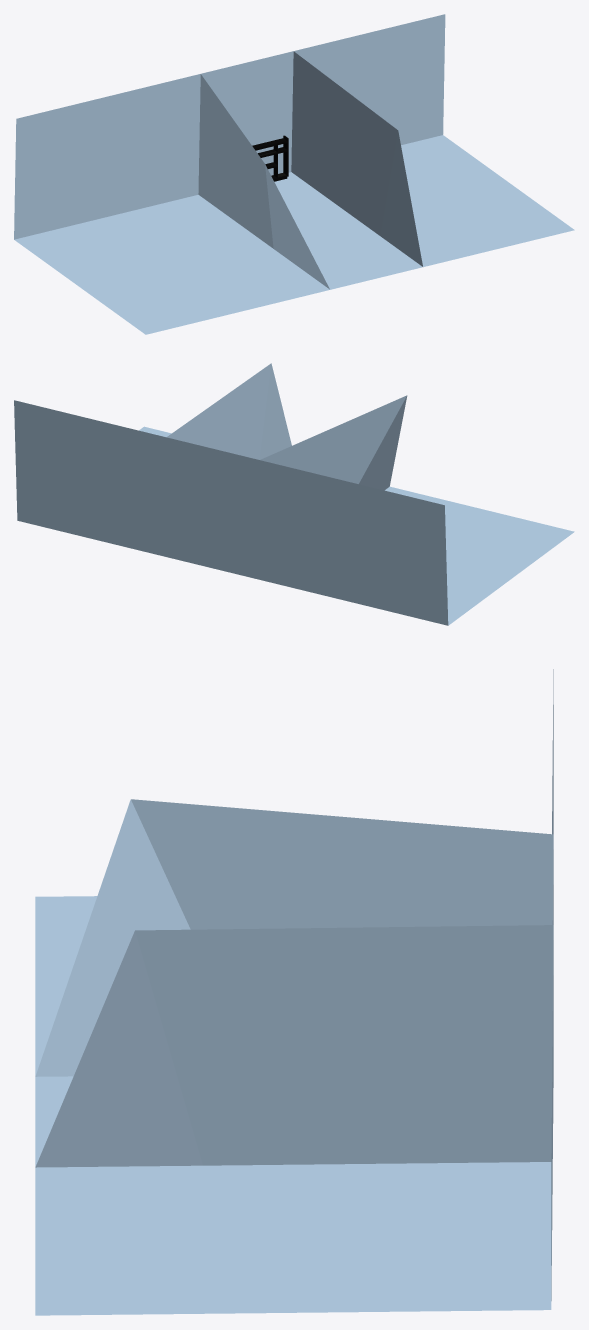
File: Room2.glb
3 renders of one model, top to bottom at view 1: azimuth 30°, elevation 25°; view 2: azimuth 150°, elevation 25°; view 3: azimuth 270°, elevation 25°, orthographic. The views are drawn at different scales.
Visible parts, largest first — view 1: floor, furnature; view 2: floor; view 3: floor.
Boxes of the visible parts, bbox=[...] form: floor: bbox=[14, 14, 574, 334]; furnature: bbox=[252, 135, 288, 181]; floor: bbox=[14, 363, 574, 625]; floor: bbox=[35, 669, 553, 1315].
Bounding box in the file's own units: 50.22 × 13.47 × 26.09.
8 materials, 5 textured.
